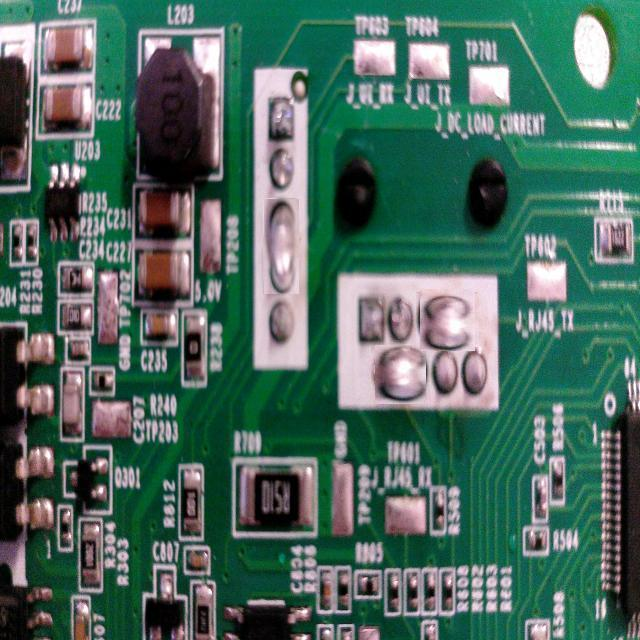Short_circuit: (418, 290, 477, 349), (263, 198, 299, 294), (373, 347, 428, 402)
